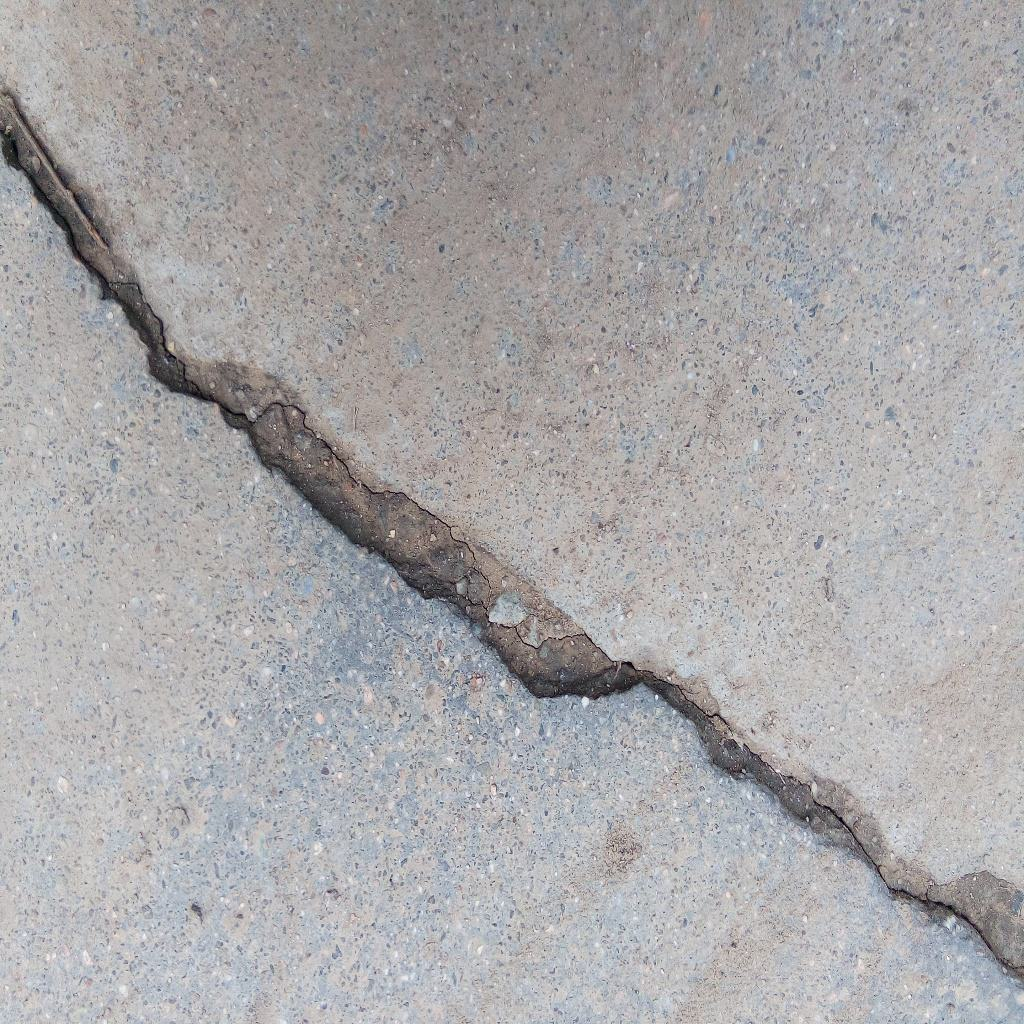Crack: (1, 78, 1024, 981)
